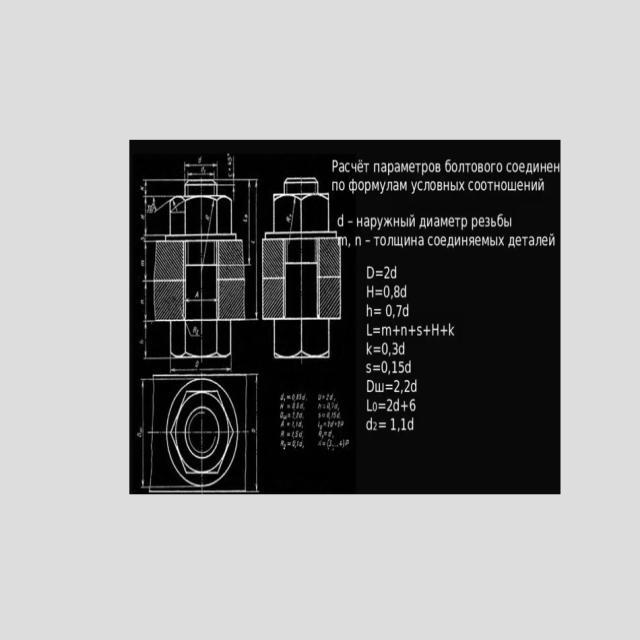numeric: (385, 399, 416, 414), (381, 361, 405, 374), (381, 341, 399, 358), (394, 379, 413, 394), (384, 305, 402, 320), (389, 417, 407, 432), (383, 261, 396, 280), (384, 285, 401, 297)
